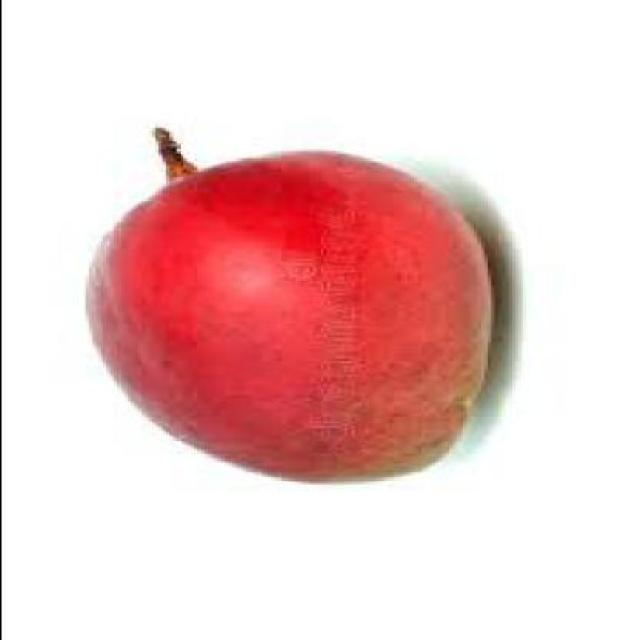BIODEGRADABLE: (85, 151, 491, 486)
